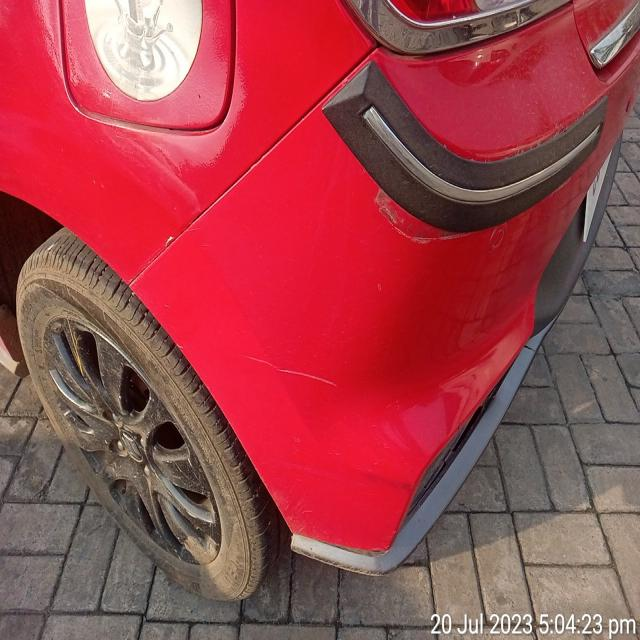damage: (118, 132, 206, 208), (362, 182, 436, 251)
